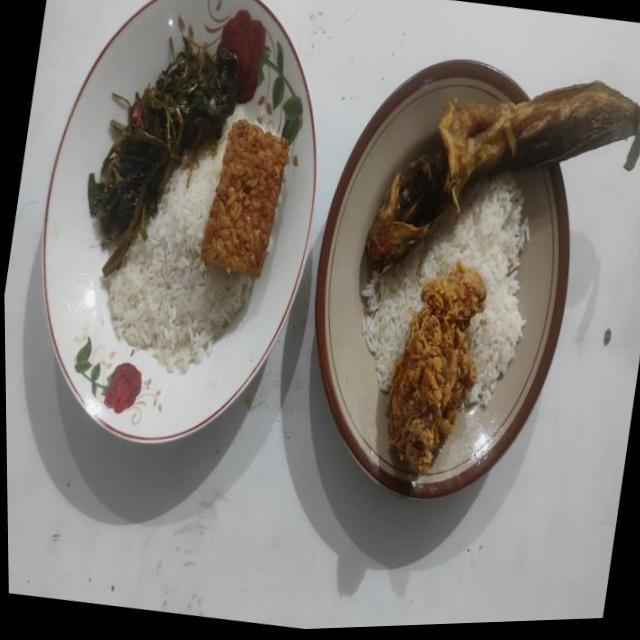nasi_putih: (362, 174, 528, 408), (108, 116, 254, 373)
tempe_goreng: (200, 120, 288, 278)
tumis_kangkung: (88, 37, 238, 276)
